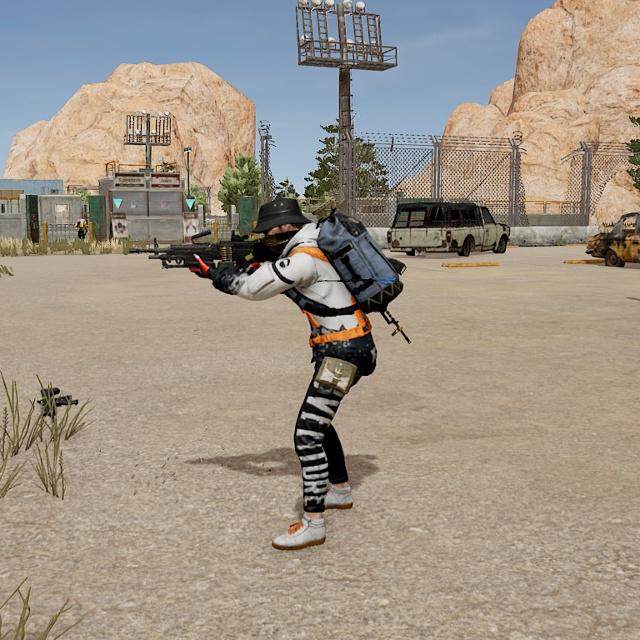head: (252, 192, 314, 260)
people: (222, 188, 387, 551)
